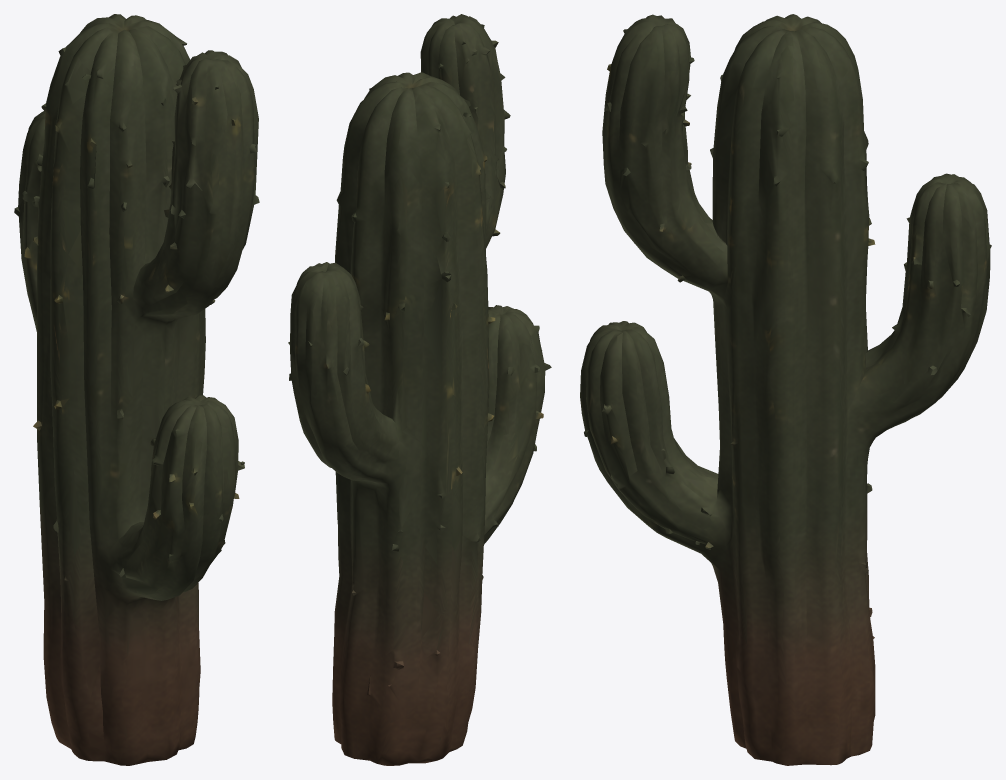
File: desert-cactus-lod1.glb
3 views of the same model, side by side, from view 1: azimuth 30°, elevation 25°; view 2: azimuth 150°, elevation 25°; view 3: azimuth 270°, elevation 25° (orthographic). The views are drawn at different scales.
Visible parts, largest first — view 1: desert-cactus.002; view 2: desert-cactus.002; view 3: desert-cactus.002.
Boxes of the visible parts, x1,y1,x2,y2 form: desert-cactus.002: (14, 14, 259, 765); desert-cactus.002: (288, 14, 551, 765); desert-cactus.002: (580, 14, 991, 765).
Size of the model in its own units: 0.5227 by 2.4 by 1.24.
1 material, 1 textured.
